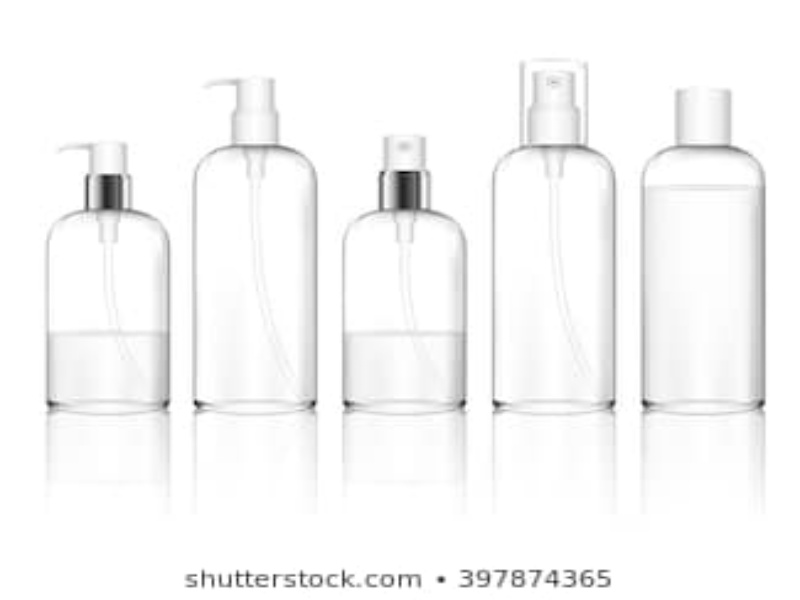shampoo-bottle: (483, 54, 624, 417), (185, 74, 328, 411), (635, 80, 776, 416), (337, 127, 476, 417), (44, 138, 173, 415)
